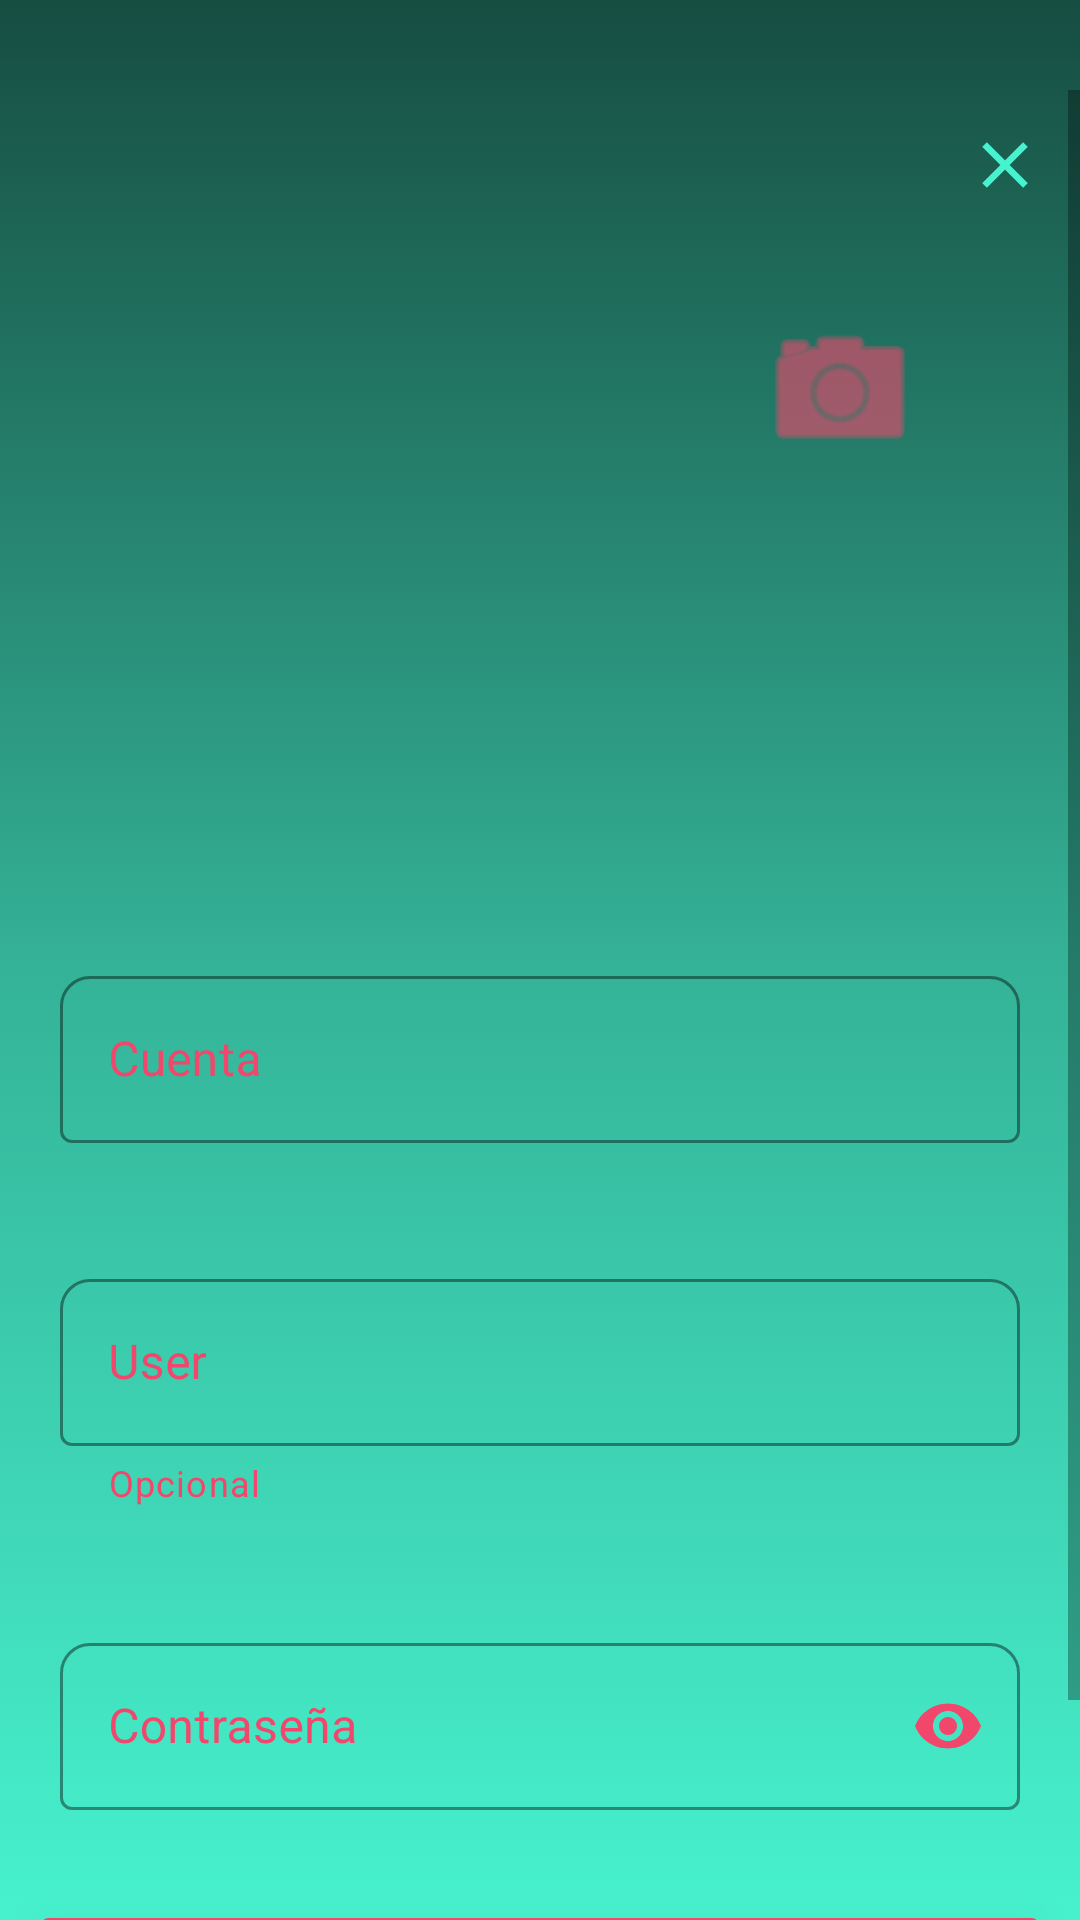

Icons on this 1080px×1920px Android screen, each with the point to tap as (x=x, y=y):
camera: (x=840, y=387)
